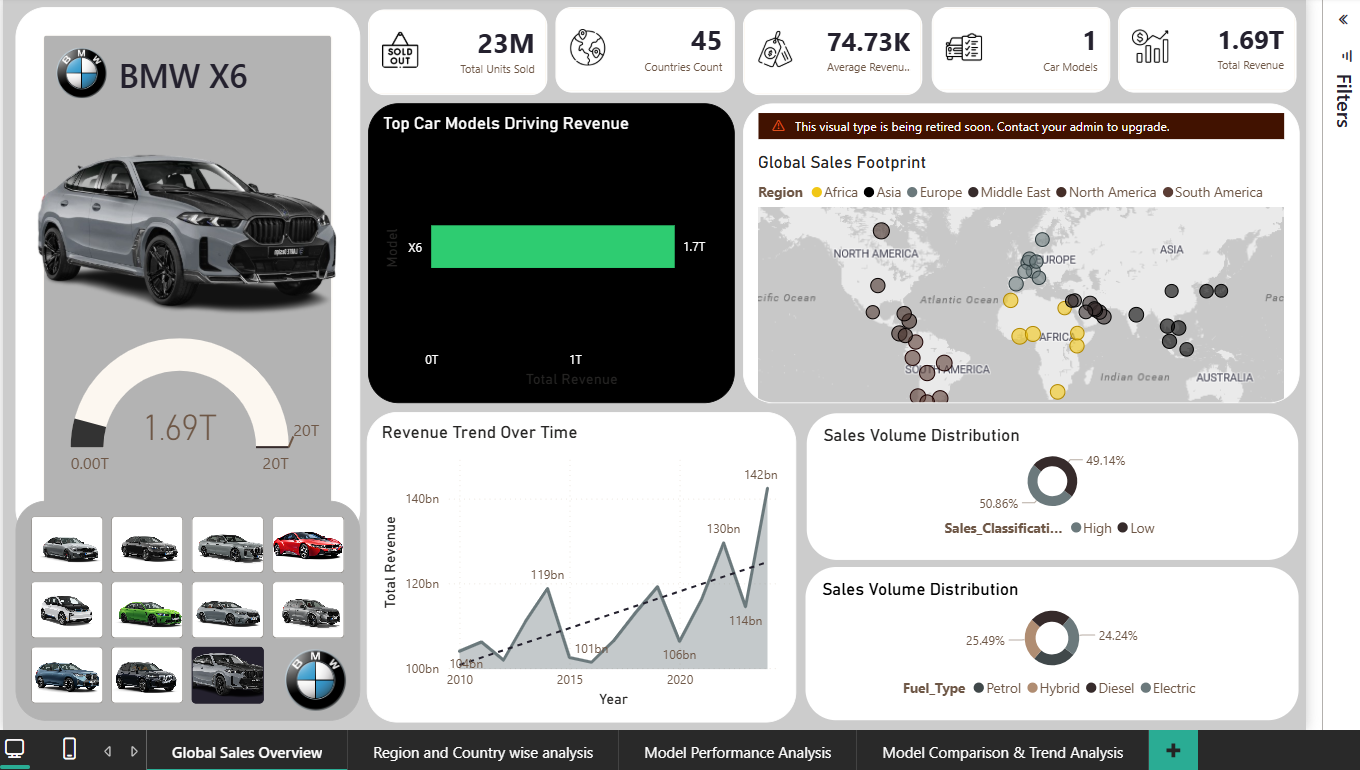

Layout of this report page (visuals, bound fields, positions):
{"tool":"powerbi","page":{"name":"Global Sales Overview","canvas":[1280,720],"ordinal":0},"visuals":[{"type":"areaChart","title":"Revenue Trend Over Time","fields":{"Category":["Sales.Year"],"Y":["_Measures.Total Revenue"]},"box":[357.5,407.5,421.2,305],"z":0},{"type":"clusteredBarChart","title":"Top Car Models Driving Revenue","fields":{"Category":["Sales.Model"],"Y":["_Measures.Total Revenue"]},"box":[358,104,360,294],"z":1000},{"type":"donutChart","title":"Sales Volume Distribution","fields":{"Category":["Sales.Sales_Classification"],"Y":["_Measures.Total Units Sold"]},"box":[39,408.3,242.4,70.7],"z":2000},{"type":"map","title":"Global Sales Footprint","fields":{"Category":["Sales.country"],"Series":["Sales.Region"],"Size":["_Measures.Total Units Sold"]},"box":[726,104,546,294],"z":3000},{"type":"cardVisual","fields":{"Data":["_Measures.Selected Model"]},"box":[11.7,10,338.3,523.3],"z":4000},{"type":"cardVisual","fields":{"Data":["_Measures.Total Units Sold"]},"box":[358,12,176,84],"z":5000},{"type":"cardVisual","fields":{"Data":["_Measures.Countries Count"]},"box":[542,10,176,84],"z":8000},{"type":"cardVisual","fields":{"Data":["_Measures.Average Revenue per Unit"]},"box":[726,12,176,84],"z":9000},{"type":"cardVisual","fields":{"Data":["_Measures.Car Models Count"]},"box":[911.2,10,175,83.8],"z":10000},{"type":"cardVisual","fields":{"Data":["_Measures.Total Revenue"]},"box":[1095,10,175,83.8],"z":11000},{"type":"advancedSlicerVisual","fields":{"Values":["Model_Image.ImageURL"]},"box":[12,494,338,216],"z":12000},{"type":"image","box":[270.7,640.7,71.4,60],"z":13000},{"type":"image","box":[13,80.8,337.6,298.7],"z":14000},{"type":"gauge","fields":{"MaxValue":["Model_Image.Revenue Target"],"TargetValue":["Model_Image.Revenue Target"],"Y":["_Measures.Total Revenue"]},"box":[39,330.4,304.4,148.6],"z":15000},{"type":"donutChart","title":"Sales Volume Distribution","fields":{"Category":["Sales.Sales_Classification"],"Y":["_Measures.Total Units Sold"]},"box":[788.7,408.7,482.7,144],"z":16000},{"type":"pieChart","title":"Sales Volume Distribution","fields":{"Category":["Sales.Fuel_Type"],"Y":["_Measures.Total Units Sold"]},"box":[787.1,560,484.3,150],"z":17000}]}

Visuals, with their boxes on the page's 1280x720 design canvas (x1, y1, x2, y2). These are canvas units, not pixel positions in the 1360x770 screenshot, which may show the page scaled, cropped or inside an application window:
"Revenue Trend Over Time" areaChart: 358:408:779:712
"Top Car Models Driving Revenue" clusteredBarChart: 358:104:718:398
"Sales Volume Distribution" donutChart: 39:408:281:479
"Global Sales Footprint" map: 726:104:1272:398
cardVisual - _Measures.Selected Model: 12:10:350:533
cardVisual - _Measures.Total Units Sold: 358:12:534:96
cardVisual - _Measures.Countries Count: 542:10:718:94
cardVisual - _Measures.Average Revenue per Unit: 726:12:902:96
cardVisual - _Measures.Car Models Count: 911:10:1086:94
cardVisual - _Measures.Total Revenue: 1095:10:1270:94
advancedSlicerVisual - Model_Image.ImageURL: 12:494:350:710
image: 271:641:342:701
image: 13:81:351:380
gauge - Model_Image.Revenue Target x Model_Image.Revenue Target: 39:330:343:479
"Sales Volume Distribution" donutChart: 789:409:1271:553
"Sales Volume Distribution" pieChart: 787:560:1271:710
